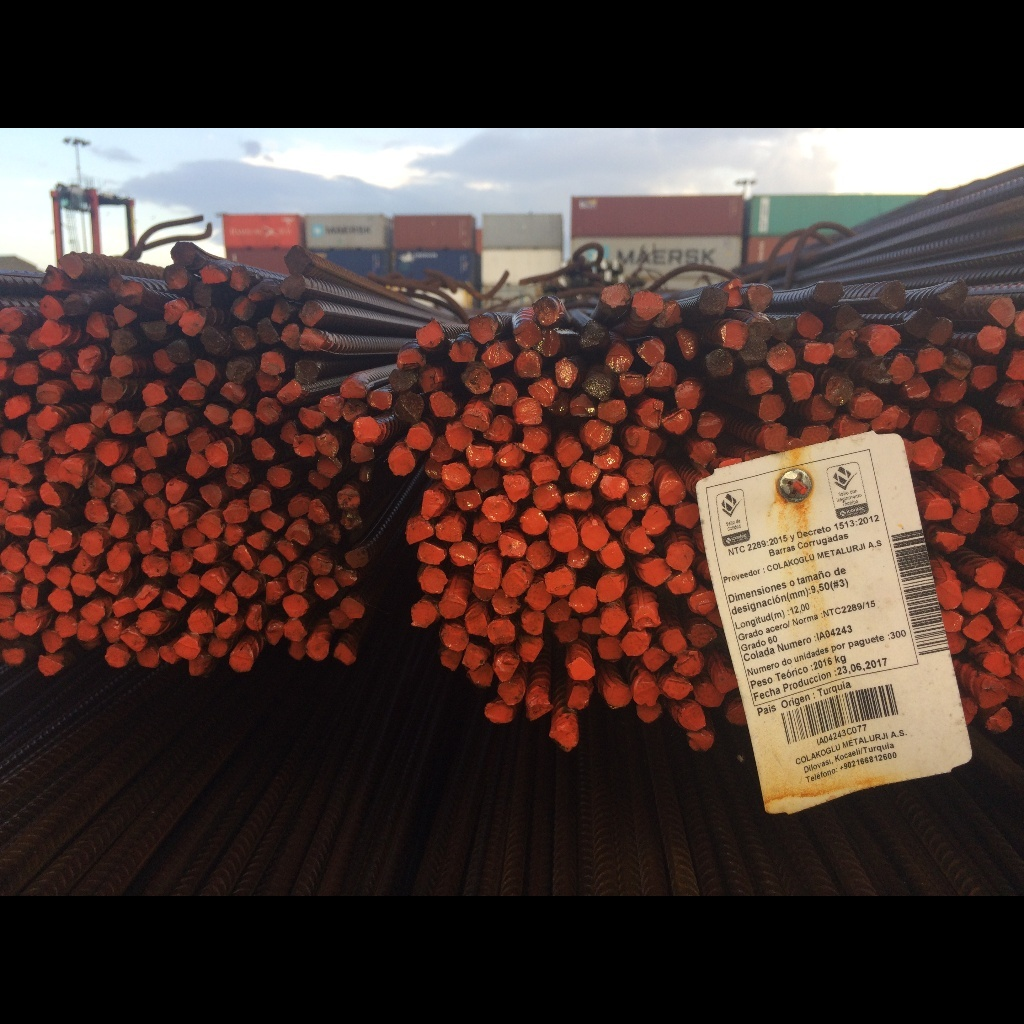dipstick: (868, 325, 900, 356), (767, 342, 796, 372), (606, 342, 634, 373), (826, 373, 853, 405), (468, 314, 497, 343), (395, 393, 423, 423), (705, 348, 733, 378), (939, 280, 969, 308), (285, 245, 312, 276), (551, 718, 577, 750), (464, 366, 492, 395), (519, 508, 548, 536), (987, 298, 1015, 327), (964, 614, 993, 642), (879, 280, 906, 310), (502, 566, 528, 597), (645, 364, 678, 388), (200, 568, 228, 596), (416, 320, 444, 348), (419, 565, 447, 593), (584, 420, 612, 448), (787, 372, 815, 400), (532, 456, 559, 485), (633, 292, 662, 319), (797, 310, 823, 340), (980, 677, 1006, 707), (906, 309, 931, 340), (933, 379, 966, 402), (533, 297, 560, 325), (442, 463, 470, 490), (580, 321, 608, 348), (601, 607, 628, 635), (666, 545, 694, 572), (637, 337, 665, 364), (699, 289, 727, 316), (747, 284, 774, 312), (758, 396, 786, 423), (913, 409, 940, 437), (495, 444, 524, 470), (583, 373, 612, 399), (722, 321, 748, 350), (835, 304, 864, 330), (978, 327, 1007, 353), (482, 343, 512, 368), (526, 691, 551, 721), (852, 393, 882, 418), (962, 589, 992, 614), (600, 284, 631, 308), (286, 519, 313, 546), (643, 506, 670, 533), (944, 351, 971, 378), (411, 600, 437, 628), (928, 317, 954, 345), (935, 583, 961, 611), (811, 283, 844, 305), (446, 421, 471, 450), (514, 320, 539, 349), (442, 622, 467, 651), (580, 525, 609, 550), (675, 653, 704, 678), (676, 381, 701, 410), (834, 330, 859, 359), (956, 411, 981, 440), (914, 348, 944, 372), (555, 357, 578, 388), (59, 459, 85, 486), (389, 448, 415, 475), (526, 584, 552, 611), (570, 586, 597, 612), (546, 568, 573, 594), (627, 459, 653, 486), (633, 680, 660, 706), (643, 560, 669, 587), (658, 480, 685, 506), (761, 425, 788, 451), (570, 463, 599, 487), (632, 606, 661, 630), (668, 571, 697, 595), (663, 410, 692, 434), (597, 400, 627, 423), (803, 342, 833, 365), (188, 609, 214, 635), (515, 399, 541, 425), (597, 576, 623, 602), (1, 545, 26, 572), (232, 572, 259, 597), (255, 397, 280, 424), (498, 681, 525, 706), (483, 496, 510, 521), (533, 484, 560, 509), (622, 631, 649, 656), (698, 412, 723, 439), (405, 519, 433, 543), (488, 620, 516, 644), (549, 527, 577, 551), (594, 446, 622, 470), (416, 544, 446, 566), (354, 417, 380, 442), (494, 655, 519, 681), (569, 657, 595, 682), (522, 428, 548, 453), (746, 370, 772, 395), (972, 364, 998, 389), (985, 652, 1011, 677), (180, 309, 204, 336), (531, 379, 555, 406), (526, 542, 550, 569), (605, 684, 632, 708), (872, 405, 896, 432), (516, 351, 539, 379), (421, 490, 444, 518), (449, 543, 477, 566), (600, 475, 628, 498), (640, 400, 663, 428), (658, 301, 681, 329), (890, 356, 913, 384), (960, 488, 988, 511), (975, 563, 1003, 586), (249, 280, 279, 301), (431, 392, 456, 417), (691, 440, 716, 465), (811, 395, 836, 420), (203, 327, 227, 353), (281, 274, 307, 298), (110, 488, 134, 514), (27, 539, 51, 565), (680, 707, 706, 731), (974, 440, 1000, 464), (95, 440, 118, 467), (460, 406, 487, 429), (490, 384, 517, 407), (439, 595, 466, 618), (688, 624, 716, 646), (676, 331, 697, 360), (38, 296, 63, 320), (232, 324, 256, 349), (49, 589, 73, 614), (168, 550, 192, 575), (224, 501, 249, 525), (555, 620, 580, 644), (675, 504, 700, 528), (163, 297, 186, 323), (226, 359, 252, 382), (488, 414, 511, 440), (474, 566, 500, 589), (628, 530, 654, 553), (663, 628, 686, 654), (697, 685, 723, 708), (986, 708, 1012, 731), (473, 522, 500, 544), (504, 475, 526, 502), (997, 383, 1024, 405), (953, 511, 980, 533), (396, 349, 425, 369), (840, 417, 869, 437), (913, 438, 933, 467), (232, 298, 256, 322), (164, 411, 188, 435), (87, 475, 111, 499), (142, 472, 166, 496), (225, 465, 249, 489), (175, 635, 199, 659), (407, 425, 431, 449), (462, 645, 486, 669), (520, 638, 544, 662), (300, 301, 323, 326), (341, 375, 366, 398), (4, 394, 27, 419), (6, 514, 31, 537), (178, 573, 201, 598), (283, 595, 308, 618), (314, 577, 337, 602), (602, 543, 625, 568), (607, 507, 632, 530), (571, 394, 596, 417), (688, 591, 713, 614), (992, 502, 1017, 525), (232, 409, 254, 435), (390, 369, 416, 391), (747, 316, 773, 338), (741, 340, 767, 362), (194, 357, 215, 384), (87, 311, 108, 338), (287, 565, 308, 592), (467, 610, 488, 637), (493, 594, 520, 615), (449, 341, 477, 361), (471, 470, 499, 490), (664, 680, 692, 700), (802, 424, 830, 444), (172, 241, 195, 265), (300, 330, 324, 353), (77, 347, 101, 370), (111, 411, 134, 435), (147, 432, 170, 456), (198, 515, 222, 538), (317, 433, 340, 457), (558, 443, 582, 466), (598, 637, 621, 661), (999, 434, 1022, 458), (992, 476, 1016, 499), (111, 330, 136, 352), (278, 381, 303, 403), (14, 363, 39, 385), (81, 531, 103, 556), (107, 547, 129, 572), (80, 601, 105, 623), (105, 646, 130, 668), (216, 592, 238, 617), (230, 648, 252, 673), (432, 435, 454, 460), (467, 446, 492, 468), (774, 316, 796, 341), (185, 454, 206, 480), (142, 556, 168, 577), (437, 521, 463, 542), (500, 536, 526, 557), (904, 378, 931, 398), (1006, 350, 1024, 380), (1, 428, 20, 456), (245, 605, 264, 633), (136, 585, 159, 608), (248, 489, 271, 512), (137, 613, 160, 636), (122, 629, 145, 652), (252, 437, 275, 460), (627, 486, 650, 509), (620, 373, 643, 396), (998, 605, 1021, 628), (42, 267, 64, 291), (170, 340, 192, 364), (295, 361, 319, 383), (143, 384, 167, 406), (36, 383, 60, 405), (233, 546, 255, 570), (258, 555, 282, 577), (645, 650, 669, 672), (151, 522, 169, 551), (116, 284, 142, 304), (297, 407, 323, 427), (539, 330, 559, 356), (568, 685, 588, 711), (265, 620, 284, 647), (566, 490, 593, 509), (925, 500, 952, 519), (937, 534, 967, 551), (110, 355, 133, 377), (20, 442, 43, 464), (143, 496, 165, 519), (522, 612, 544, 635), (548, 599, 571, 621), (165, 265, 186, 289), (230, 267, 251, 291), (50, 528, 71, 552), (86, 499, 107, 523), (165, 479, 186, 503), (71, 575, 95, 596), (194, 543, 218, 564), (307, 637, 328, 661), (628, 428, 646, 456), (63, 253, 83, 278), (41, 321, 61, 346), (102, 378, 122, 403), (4, 488, 24, 513), (455, 490, 480, 510), (140, 322, 166, 341), (321, 395, 340, 421), (485, 704, 511, 723), (271, 302, 293, 324), (51, 432, 73, 454), (200, 485, 222, 507), (98, 572, 120, 594), (49, 566, 71, 588), (284, 619, 306, 641), (294, 435, 316, 457), (1, 309, 22, 332), (309, 554, 332, 575), (343, 400, 366, 421), (335, 643, 356, 666), (64, 295, 88, 315), (258, 318, 278, 342), (261, 353, 285, 373), (205, 404, 229, 424), (168, 505, 188, 529), (309, 499, 329, 523), (337, 489, 361, 509), (318, 457, 342, 477), (420, 368, 440, 392), (265, 467, 290, 486), (155, 346, 173, 372), (33, 512, 51, 538), (38, 657, 64, 675), (39, 349, 61, 370), (188, 430, 209, 452), (15, 614, 37, 635), (56, 616, 77, 638), (189, 655, 211, 676), (717, 670, 738, 692), (940, 611, 962, 632), (180, 380, 203, 400), (68, 425, 88, 448), (138, 411, 161, 431), (206, 443, 226, 466), (113, 597, 136, 617), (470, 666, 493, 686), (162, 590, 186, 609), (70, 371, 95, 389), (350, 445, 375, 463), (200, 266, 226, 283), (728, 700, 745, 726), (11, 463, 32, 484), (215, 618, 236, 639), (370, 389, 391, 410), (136, 647, 158, 667), (288, 495, 308, 517), (343, 597, 363, 619), (194, 285, 213, 308), (91, 404, 110, 427), (103, 619, 122, 642), (182, 528, 205, 547), (248, 531, 271, 550), (316, 526, 339, 545), (136, 529, 154, 553), (265, 581, 283, 605), (283, 324, 300, 349), (221, 384, 246, 401), (40, 484, 60, 505), (77, 622, 98, 642), (336, 567, 357, 587), (727, 279, 742, 307), (135, 448, 154, 470), (308, 471, 330, 490), (441, 651, 463, 670), (566, 550, 588, 569), (690, 733, 712, 752), (262, 512, 285, 530), (637, 707, 661, 724), (43, 456, 59, 481), (25, 564, 46, 583), (42, 632, 61, 653), (277, 541, 296, 562), (346, 548, 368, 566), (329, 611, 351, 629), (943, 634, 965, 652), (256, 374, 280, 390), (22, 586, 38, 610), (224, 526, 243, 546), (27, 326, 41, 353), (111, 516, 129, 537), (74, 555, 95, 573), (552, 392, 569, 414), (28, 417, 44, 440), (115, 307, 135, 325), (1, 620, 18, 641), (1, 597, 16, 620), (39, 408, 56, 428), (341, 511, 361, 528), (281, 421, 297, 442), (932, 446, 945, 471), (582, 618, 600, 636), (647, 434, 661, 457), (4, 648, 25, 663), (159, 646, 177, 663), (209, 641, 227, 658), (289, 641, 306, 659), (472, 587, 493, 601), (426, 461, 441, 479), (1, 577, 16, 593), (109, 273, 123, 289), (1, 457, 10, 477), (360, 468, 369, 481)
